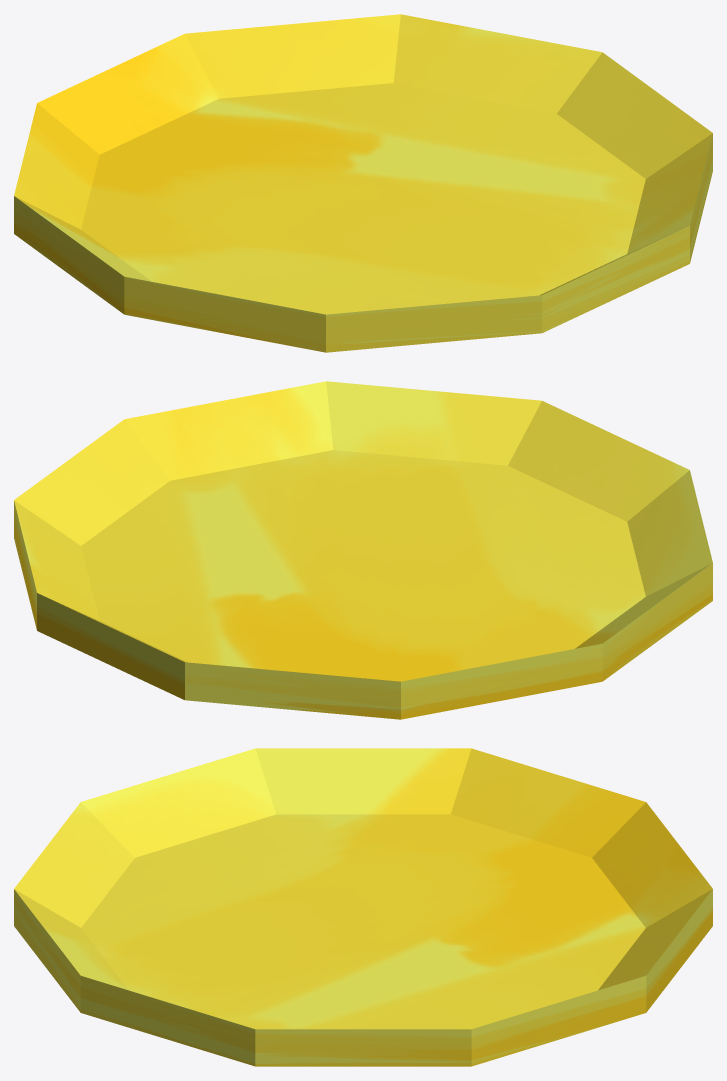
The model's file is Prop_Small_Plate.glb.
3 renders of one model, top to bottom at view 1: azimuth 30°, elevation 25°; view 2: azimuth 150°, elevation 25°; view 3: azimuth 270°, elevation 25°, orthographic. The views are drawn at different scales.
Visible parts, largest first — view 1: Plate; view 2: Plate; view 3: Plate.
Boxes of the visible parts, <box> form: Plate: <box>14,14,712,352</box>; Plate: <box>14,381,712,719</box>; Plate: <box>14,748,712,1066</box>.
Bounding box in the file's own units: 0.428 × 0.0568 × 0.45.
Materials: 1 (1 with a texture image).
